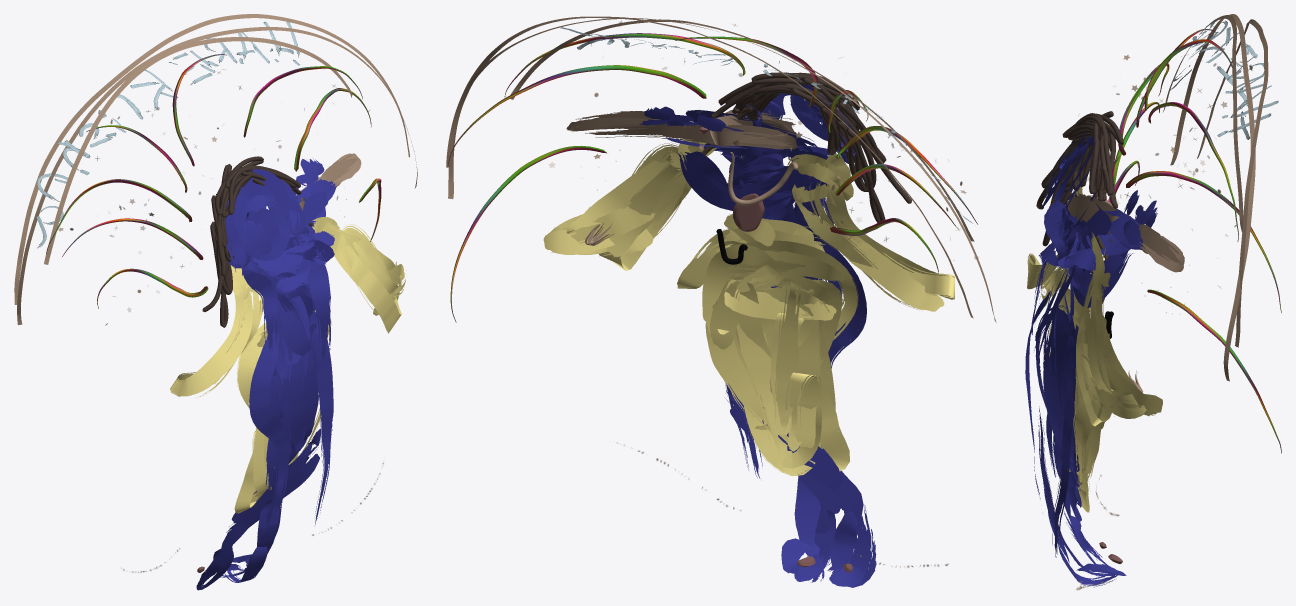
File: hare.glb
3 views of the same model, side by side, from view 1: azimuth 30°, elevation 25°; view 2: azimuth 150°, elevation 25°; view 3: azimuth 270°, elevation 25° (orthographic). The views are drawn at different scales.
Visible parts, largest first — view 1: brush_Ink_g0_b0_0, brush_Rainbow_g0_b0_9, brush_Comet_g0_b0_5, brush_ChromaticWave_g0_b0_12, brush_Hypercolor_g0_b0_13; view 2: brush_Ink_g0_b0_0, brush_ChromaticWave_g0_b0_12, brush_Comet_g0_b0_5, brush_Rainbow_g0_b0_9, brush_DiamondHull_g0_b0_10, brush_Hypercolor_g0_b0_13, brush_NeonPulse_g0_b0_11; view 3: brush_Ink_g0_b0_0, brush_Rainbow_g0_b0_9, brush_ChromaticWave_g0_b0_12, brush_Comet_g0_b0_5, brush_Hypercolor_g0_b0_13, brush_Stars_g0_b0_7.
Boxes of the visible parts, x1,y1,x2,y2 form: brush_Ink_g0_b0_0: [170, 153, 406, 590]; brush_Rainbow_g0_b0_9: [14, 14, 417, 325]; brush_Comet_g0_b0_5: [46, 54, 381, 308]; brush_ChromaticWave_g0_b0_12: [202, 156, 312, 327]; brush_Hypercolor_g0_b0_13: [36, 22, 300, 248]; brush_Ink_g0_b0_0: [543, 84, 954, 587]; brush_ChromaticWave_g0_b0_12: [702, 72, 911, 222]; brush_Comet_g0_b0_5: [447, 33, 977, 322]; brush_Rainbow_g0_b0_9: [446, 16, 996, 322]; brush_DiamondHull_g0_b0_10: [699, 127, 852, 572]; brush_Hypercolor_g0_b0_13: [560, 27, 972, 223]; brush_NeonPulse_g0_b0_11: [728, 152, 798, 205]; brush_Ink_g0_b0_0: [1025, 131, 1184, 587]; brush_Rainbow_g0_b0_9: [1163, 14, 1268, 381]; brush_ChromaticWave_g0_b0_12: [1036, 111, 1123, 260]; brush_Comet_g0_b0_5: [1108, 29, 1281, 453]; brush_Hypercolor_g0_b0_13: [1170, 20, 1278, 139]; brush_Stars_g0_b0_7: [1087, 55, 1252, 287].
Size of the model in its own units: 1.04 by 1.17 by 0.4778.
12 materials, 8 textured.
